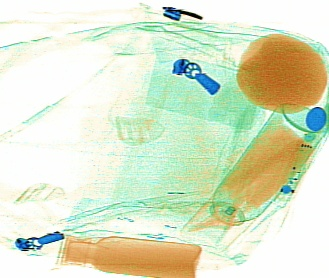pressure: (178, 101, 327, 252)
